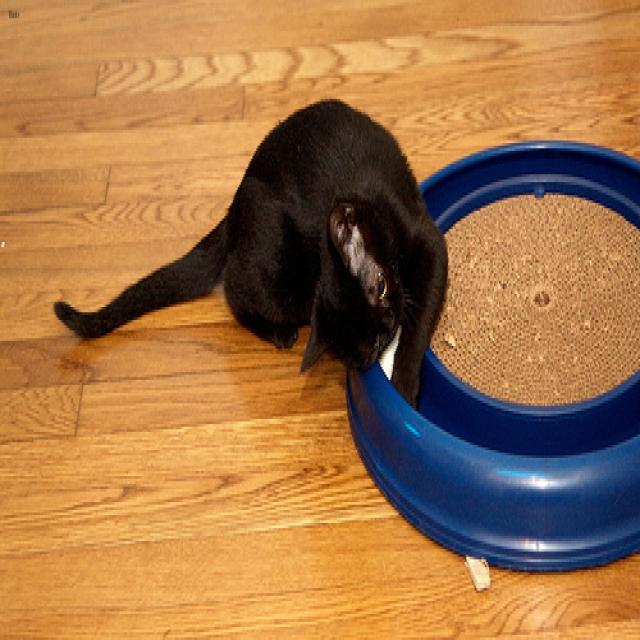Bombay: (293, 183, 451, 407)
